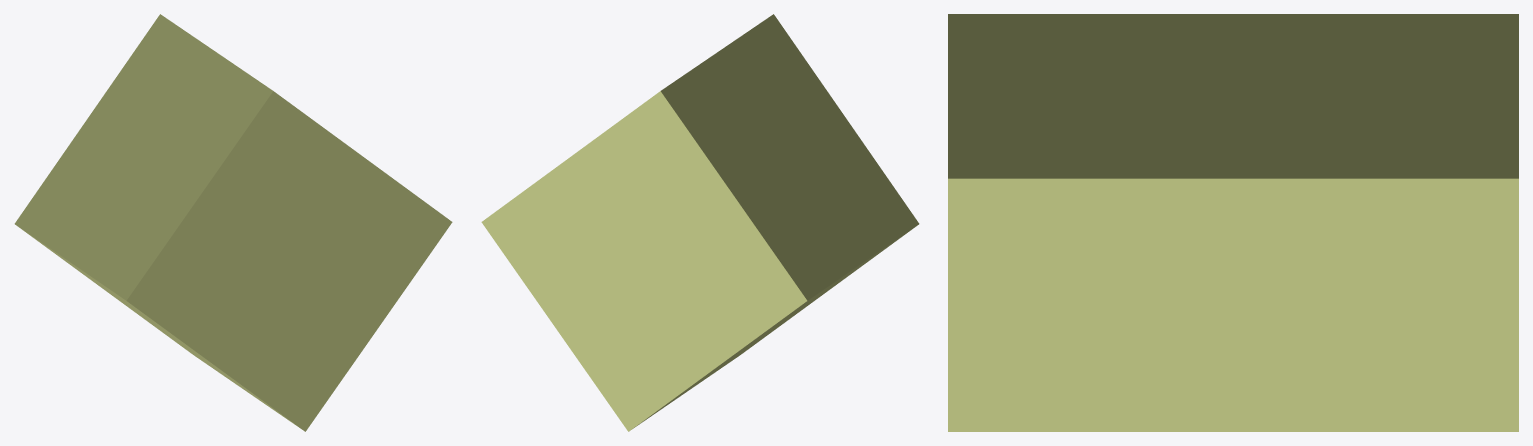
3 views of the same model, side by side, from view 1: azimuth 30°, elevation 25°; view 2: azimuth 150°, elevation 25°; view 3: azimuth 270°, elevation 25° (orthographic). The views are drawn at different scales.
Visible parts, largest first — view 1: 0_1_2_0_3_2_0_0_3_1_0; view 2: 0_1_2_0_3_2_0_0_3_1_0; view 3: 0_1_2_0_3_2_0_0_3_1_0.
Part boxes in pixels (left/top/right/bottom): 0_1_2_0_3_2_0_0_3_1_0: left=14, top=14, right=452, bottom=431; 0_1_2_0_3_2_0_0_3_1_0: left=481, top=14, right=919, bottom=431; 0_1_2_0_3_2_0_0_3_1_0: left=948, top=14, right=1518, bottom=431.
Size of the model in its own units: 7.52 by 7.73 by 9.
